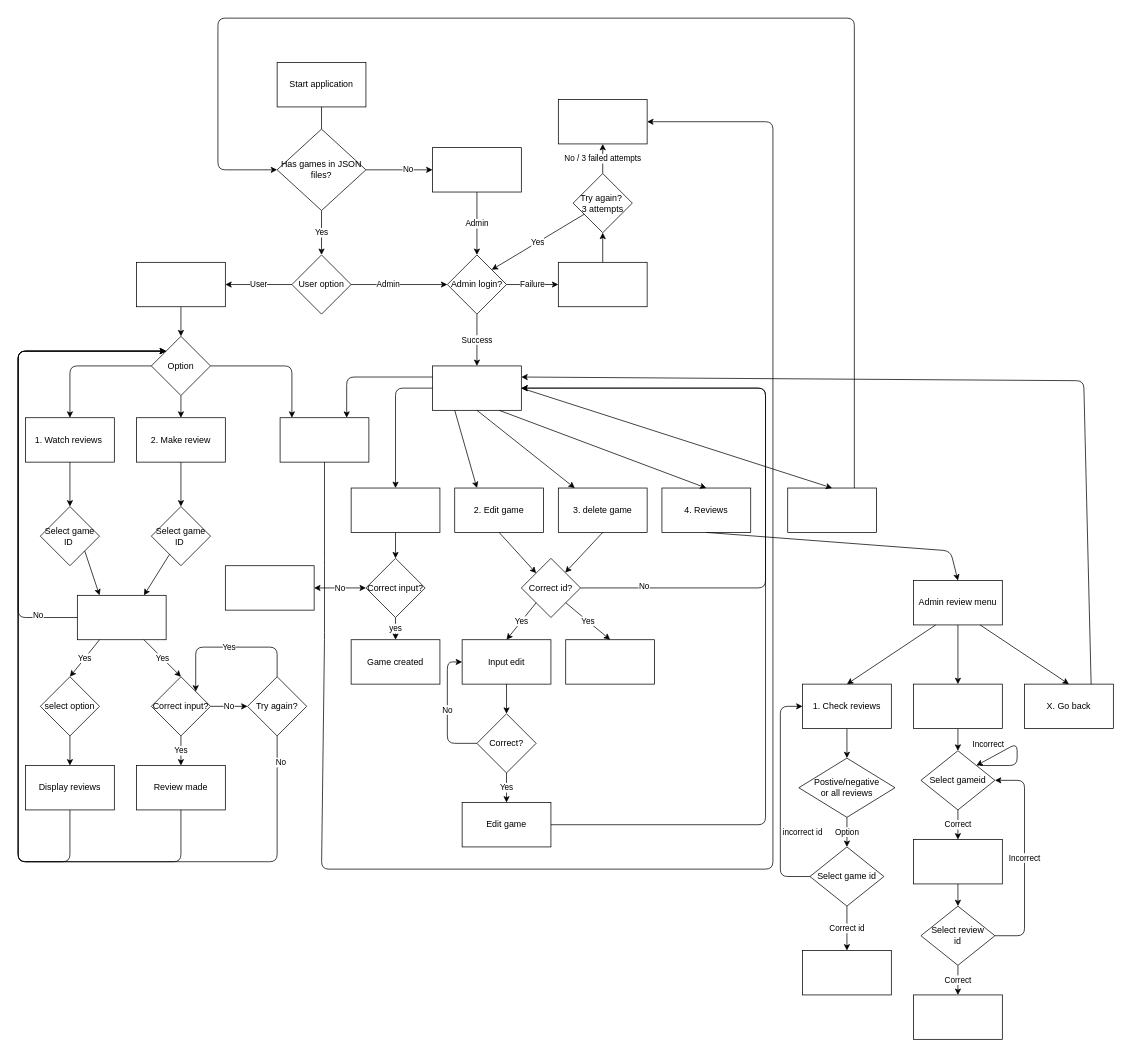
Some shapes in this 1126 by 1052 pixel diagram are drawn without their labels. The shapes that lost their labels are listed below. From the top down, each one's centre as x and y in pixels, then its label:
(602,121): Force shutdown application
(476,169): Show admin option only
(180,284): User menu
(602,284): Prompt user to try again
(476,387): Logged in as admin, show admin menu
(324,439): X. Exit shop
(395,509): 1. Add game
(832,509): 5. Logout
(269,587): Error message try again
(121,617): Game ID exist?
(610,661): Delete game
(957,706): 2. Delete reviews
(957,861): Show all reviews
(846,972): Show review
(957,1016): Delete review
